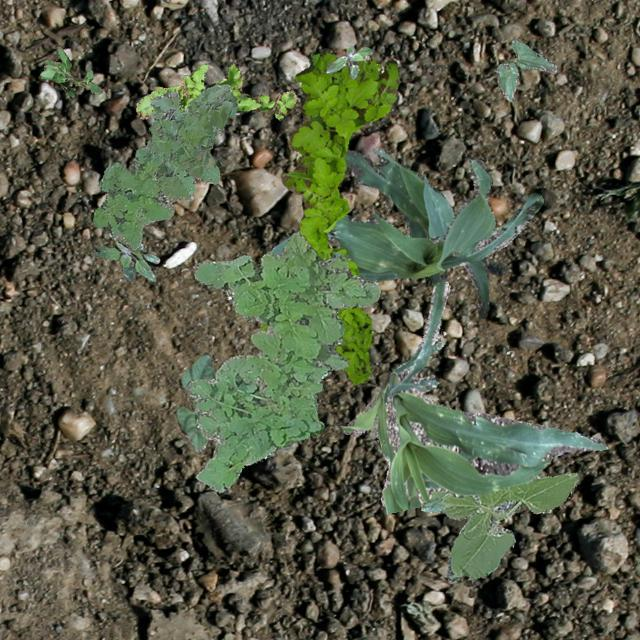crop: (339, 280, 606, 514), (268, 157, 542, 280), (343, 146, 488, 316), (420, 472, 578, 582), (242, 364, 328, 464), (174, 352, 213, 452), (496, 38, 556, 100), (258, 322, 268, 331)
weed: (186, 230, 380, 492), (280, 51, 398, 384), (91, 84, 236, 248), (134, 62, 296, 118), (92, 224, 158, 280), (38, 46, 102, 98), (326, 44, 372, 78)
